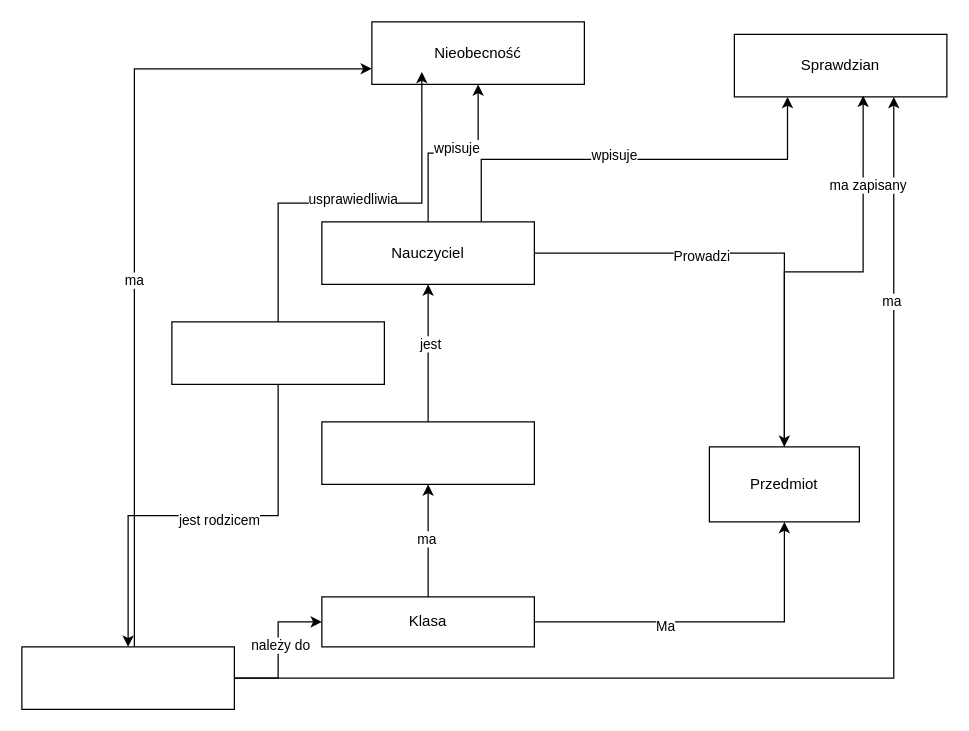
Some shapes in this 969 by 731 pixel diagram are drawn without their labels. The centre of each missing label's shape, as x and y in pixels:
Rodzic: (x=277, y=352)
Uczeń: (x=127, y=677)
Wychowawca: (x=427, y=452)
